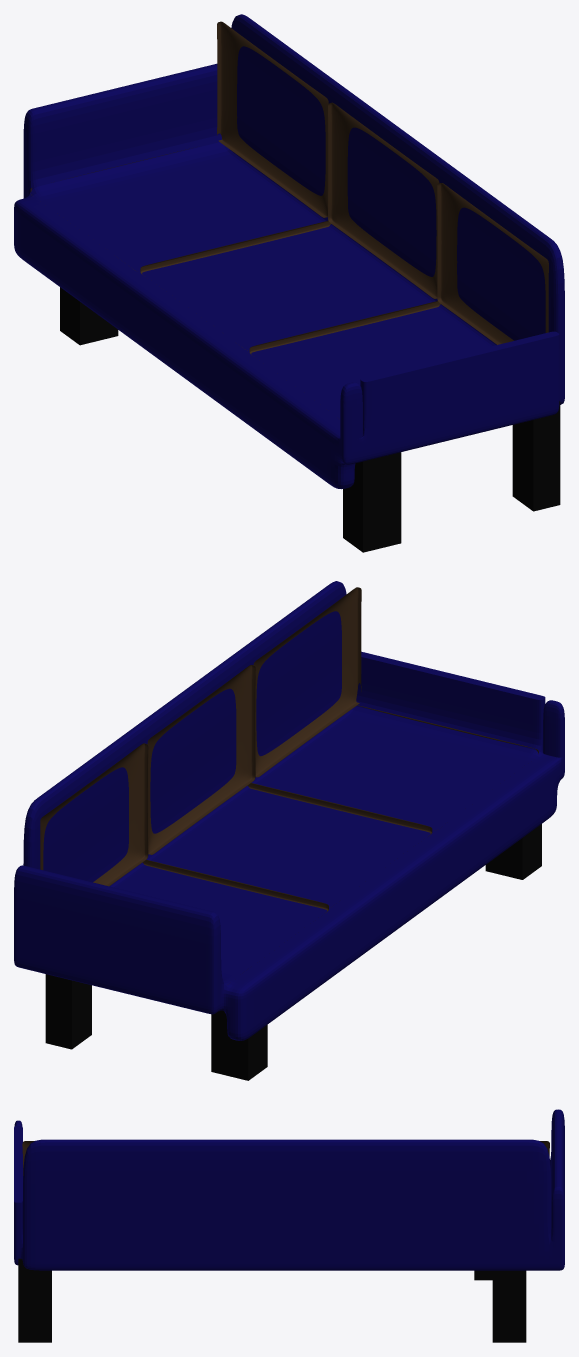
Rendered from BlueSofa.fbx.
3 renders of one model, top to bottom at view 1: azimuth 30°, elevation 25°; view 2: azimuth 150°, elevation 25°; view 3: azimuth 270°, elevation 25°, orthographic. The views are drawn at different scales.
Parts seen in each view (by area): view 1: Sofa; view 2: Sofa; view 3: Sofa.
Boxes of the visible parts, x1=… form: Sofa: x1=14, y1=14, x2=564, y2=552; Sofa: x1=14, y1=581, x2=564, y2=1080; Sofa: x1=14, y1=1109, x2=564, y2=1342.
Bounding box in the file's own units: 86.07 × 91 × 223.
